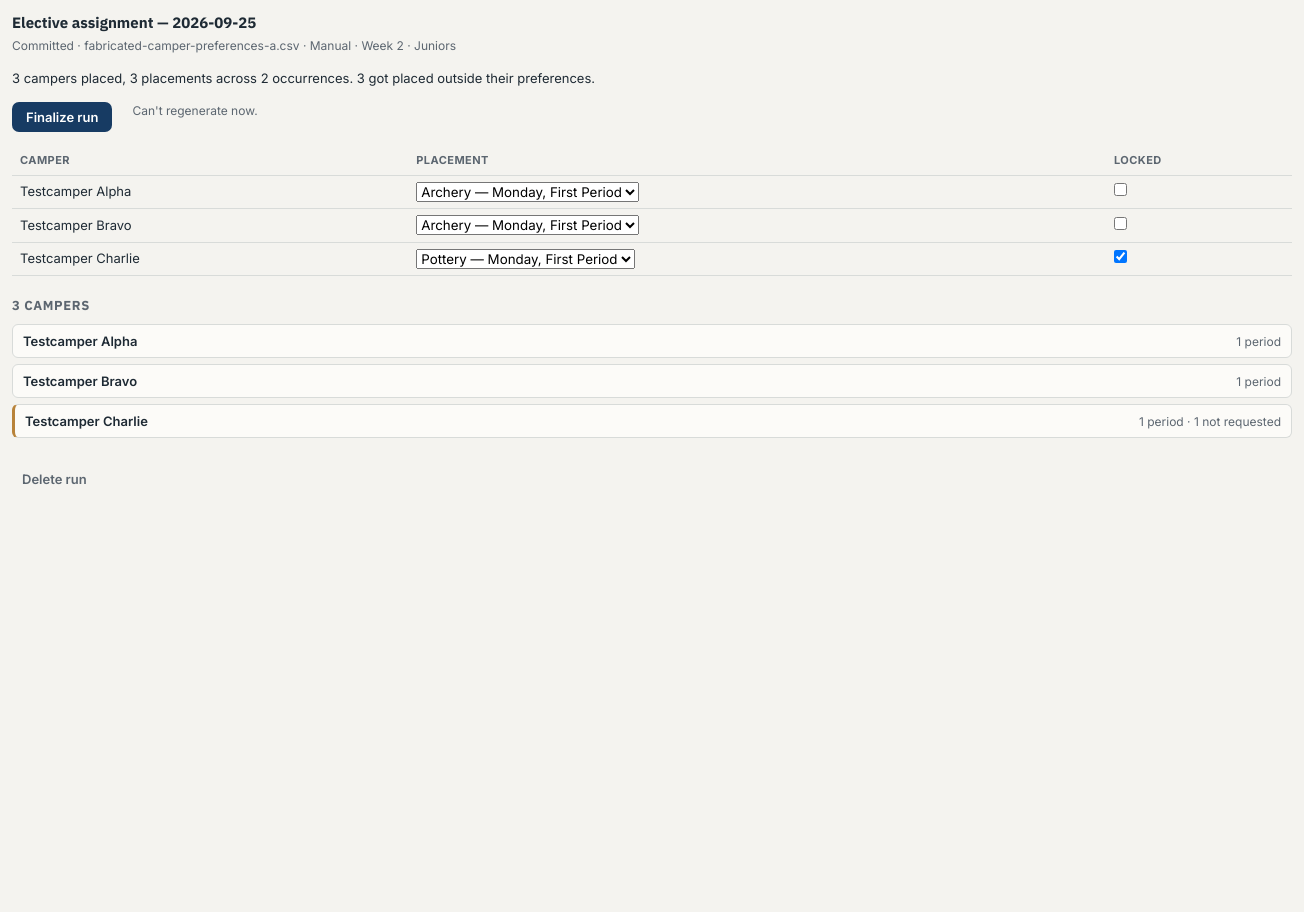
Test: T250 A1 — Finalize run › renders up to 3 findings as a list, collapsing the remainder behind "+N more"
Click the button "Finalize run" at (62, 117), box x1=12 y1=102 x2=112 y2=132
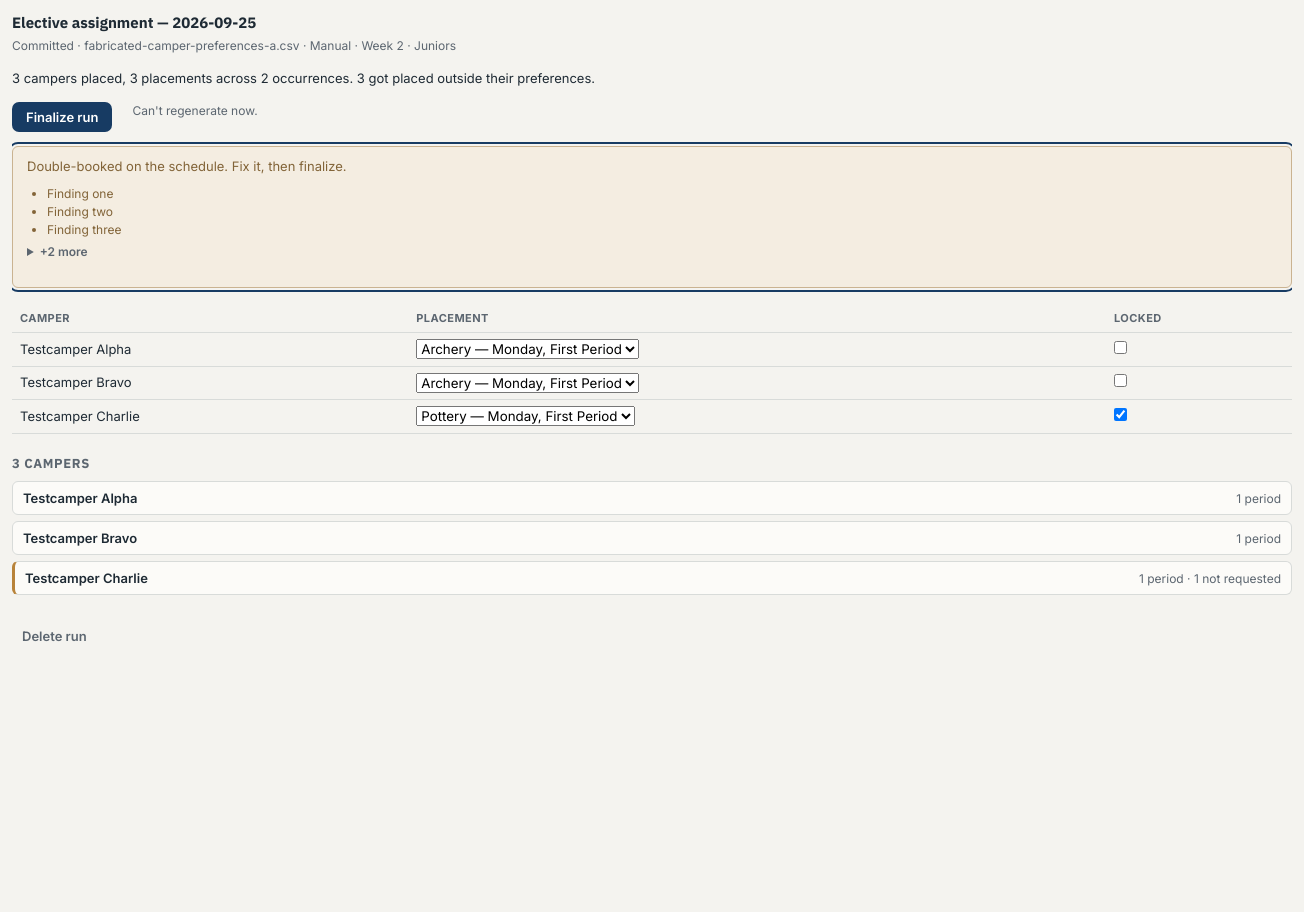
Check: the number of list items is 3, box x1=47 y1=186 x2=114 y2=200; x1=47 y1=204 x2=113 y2=218; x1=47 y1=222 x2=122 y2=236
Check: the heading "+2 more" is shown, box x1=40 y1=244 x2=88 y2=258
